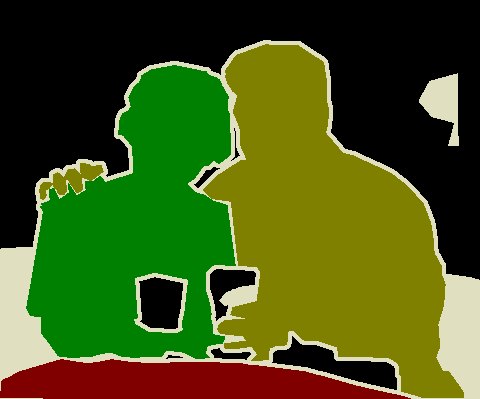diningtable: (1, 303, 467, 398)
person: (38, 49, 447, 372), (23, 66, 238, 362)
